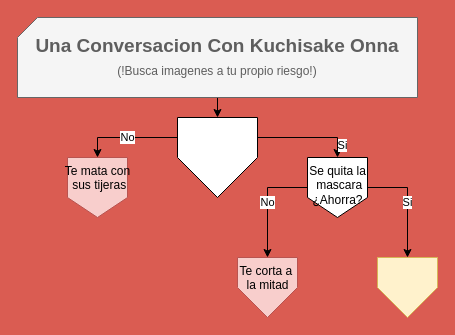
Some shapes in this 455 by 335 pixel diagram are drawn without their labels. The shapes that lost their labels are listed below. From the top down, each one's centre as x and y in pixels, then its label:
At (217,157): "¿Crees que soy bonita?".
At (407,287): "Te corta la boca como la suya".
